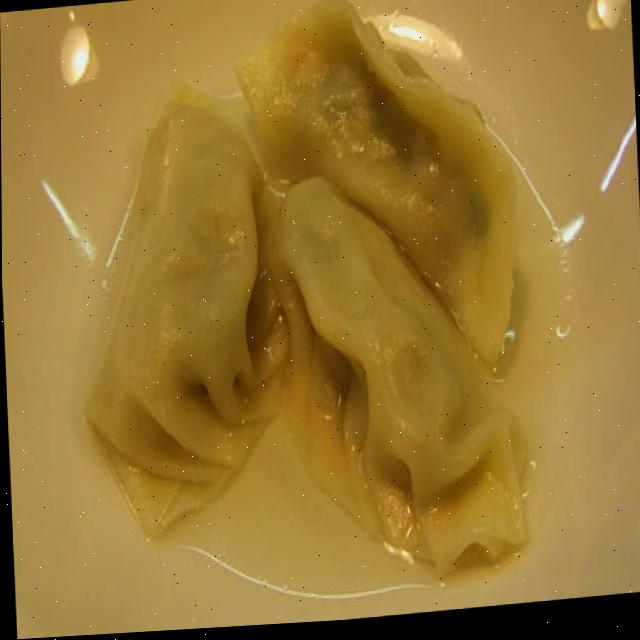带馅早点: (63, 0, 573, 606)
